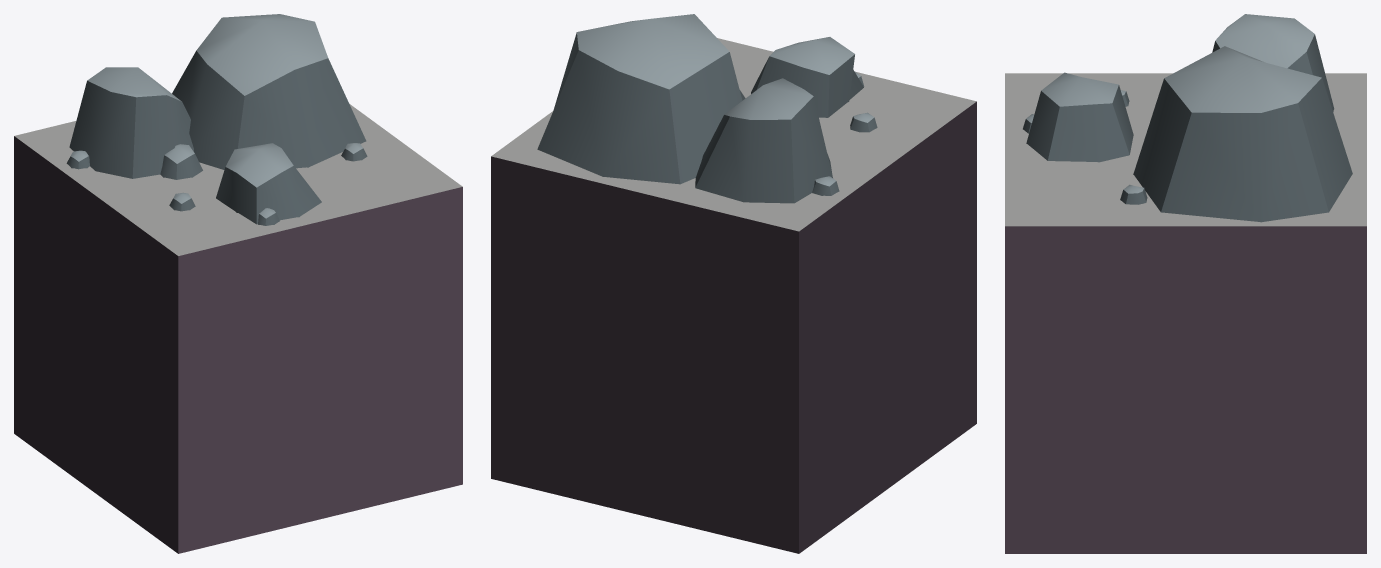
The model's file is tile_obstacle_rock01.FBX.
The picture shows the model from 3 angles, left to right: view 1: azimuth 30°, elevation 25°; view 2: azimuth 150°, elevation 25°; view 3: azimuth 270°, elevation 25°; orthographic projection. The views are drawn at different scales.
Parts seen in each view (by area): view 1: tile_obstacle_rock01; view 2: tile_obstacle_rock01; view 3: tile_obstacle_rock01.
Part boxes in pixels (x1,y1,x2,y2): tile_obstacle_rock01: [14, 14, 462, 553]; tile_obstacle_rock01: [491, 14, 976, 553]; tile_obstacle_rock01: [1005, 14, 1366, 553].
Bounding box in the file's own units: 39.37 × 53.76 × 39.37.
